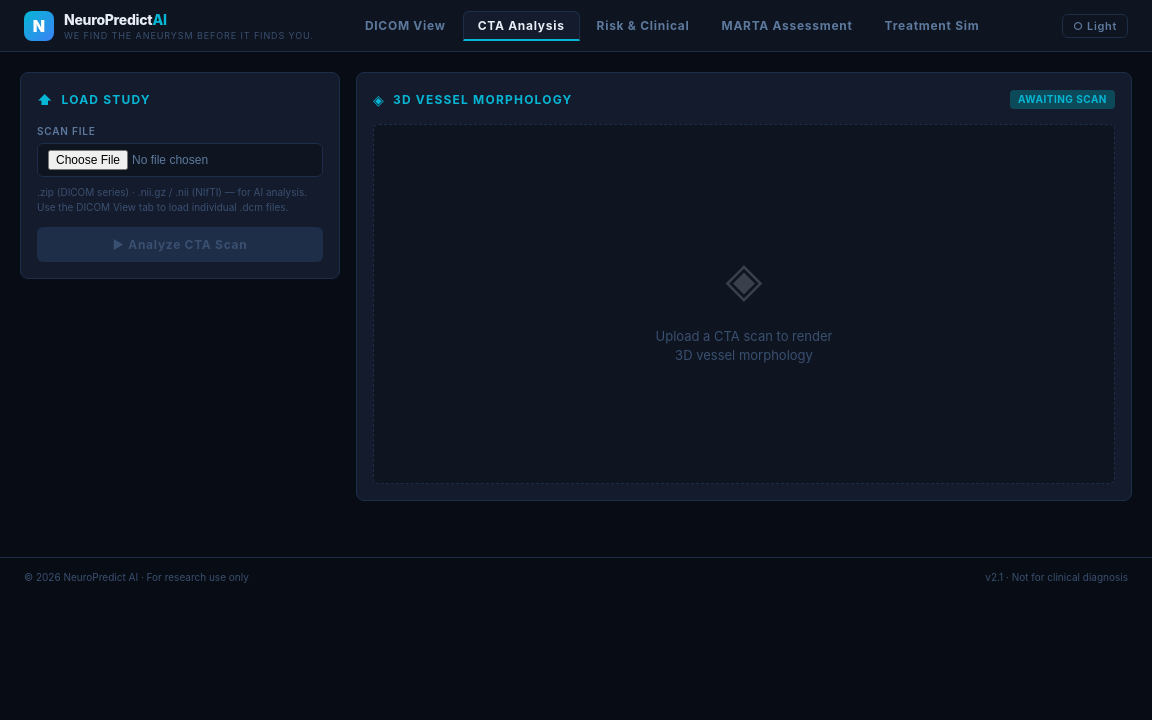
Test: App › shows MARTA form when MARTA Assessment tab is clicked
Click the button "MARTA Assessment". click: click(787, 26)
box: [706, 11, 868, 41]
(page scrolled)
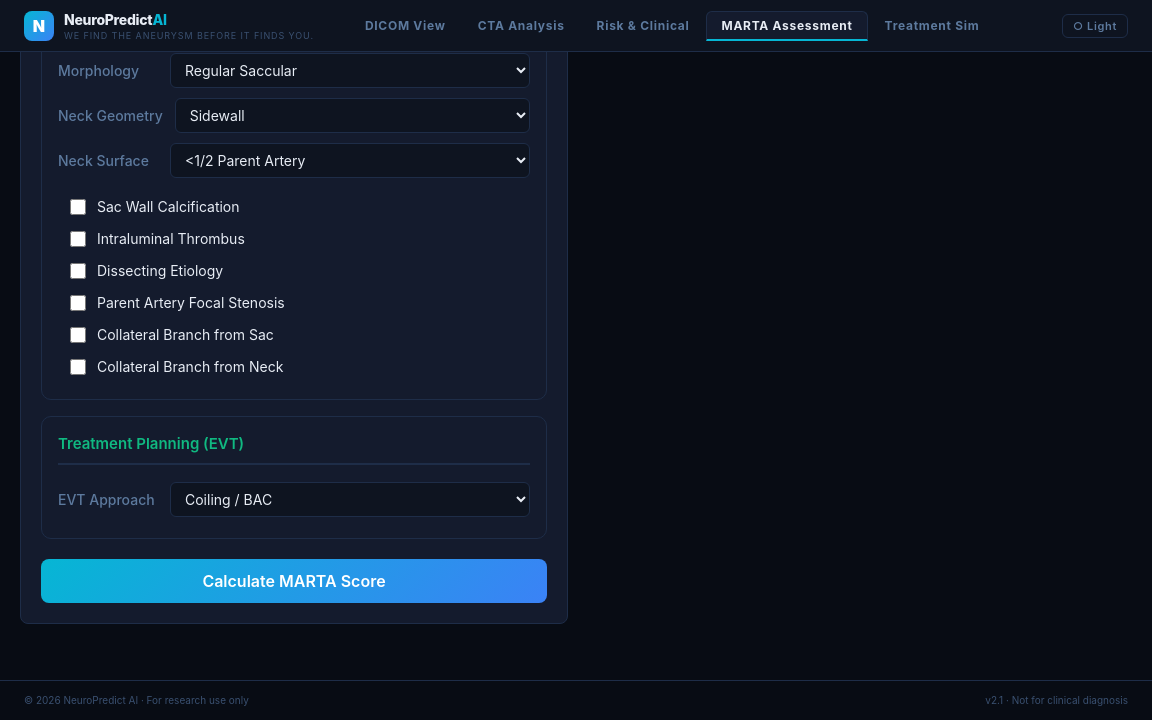
Result: the button "Calculate MARTA Score" is shown at [41, 559, 547, 603]
